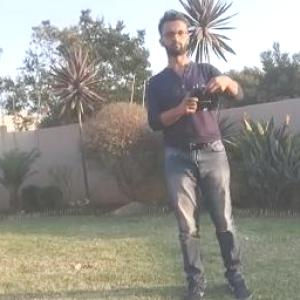follow: (142, 2, 259, 299)
